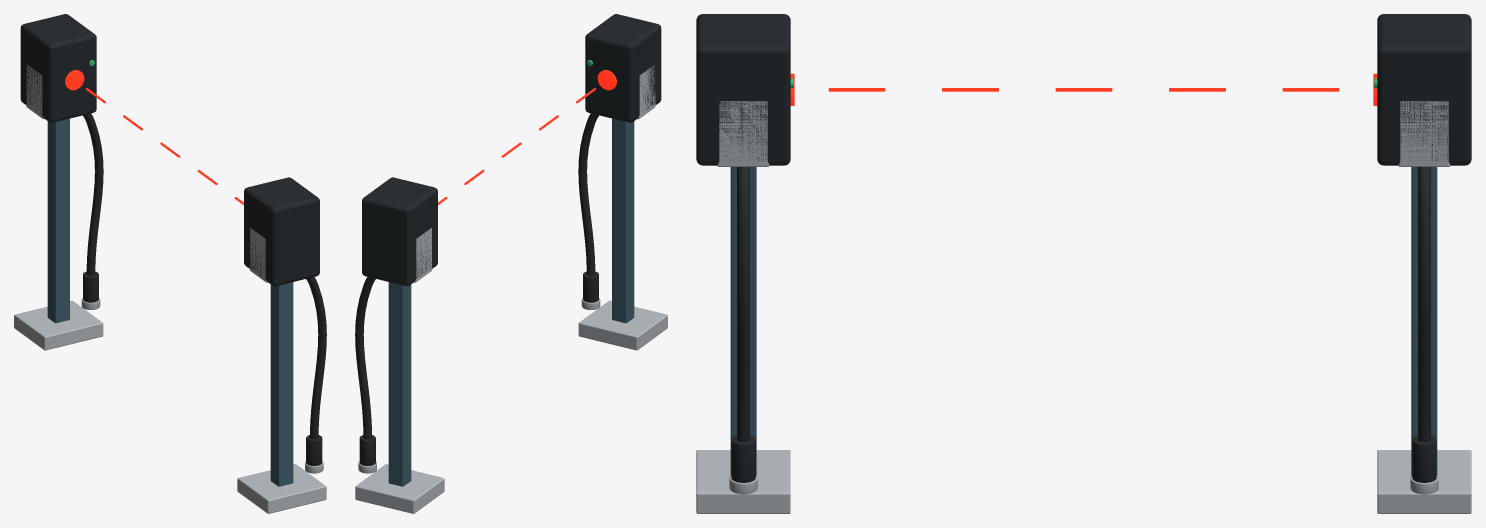
The model's file is package_class_result_display.glb.
The picture shows the model from 3 angles, left to right: view 1: azimuth 30°, elevation 25°; view 2: azimuth 150°, elevation 25°; view 3: azimuth 270°, elevation 25°; orthographic projection. The views are drawn at different scales.
Parts seen in each view (by area): view 1: TX_housing, RX_housing, TX_post, RX_post, TX_foot, RX_foot, RX_cable, TX_cable, RX_adjust_bracket, TX_adjust_bracket, TX_m12_connector, RX_m12_connector; view 2: RX_housing, TX_housing, RX_post, TX_post, RX_foot, TX_foot, TX_cable, RX_cable, RX_adjust_bracket, TX_adjust_bracket, RX_m12_connector, TX_m12_connector; view 3: RX_housing, TX_housing, RX_foot, TX_foot, RX_post, TX_post, RX_cable, TX_cable, RX_adjust_bracket, TX_adjust_bracket, RX_m12_connector, TX_m12_connector.
Part boxes in pixels (left/top/right/bottom): TX_housing: left=244, top=177, right=319, bottom=286; RX_housing: left=20, top=14, right=96, bottom=122; TX_post: left=270, top=282, right=293, bottom=486; RX_post: left=47, top=118, right=69, bottom=323; TX_foot: left=237, top=464, right=326, bottom=513; RX_foot: left=14, top=300, right=103, bottom=350; RX_cable: left=83, top=113, right=103, bottom=275; TX_cable: left=306, top=277, right=326, bottom=439; RX_adjust_bracket: left=26, top=64, right=44, bottom=119; TX_adjust_bracket: left=249, top=228, right=267, bottom=282; TX_m12_connector: left=306, top=435, right=322, bottom=465; RX_m12_connector: left=83, top=271, right=98, bottom=302; RX_housing: left=362, top=177, right=437, bottom=286; TX_housing: left=585, top=14, right=661, bottom=122; RX_post: left=388, top=282, right=411, bottom=486; TX_post: left=612, top=118, right=634, bottom=323; RX_foot: left=355, top=464, right=444, bottom=513; TX_foot: left=578, top=300, right=667, bottom=350; TX_cable: left=578, top=113, right=598, bottom=275; RX_cable: left=355, top=277, right=375, bottom=439; RX_adjust_bracket: left=414, top=228, right=432, bottom=282; TX_adjust_bracket: left=637, top=65, right=655, bottom=119; RX_m12_connector: left=359, top=435, right=375, bottom=465; TX_m12_connector: left=583, top=271, right=598, bottom=302; RX_housing: left=1377, top=14, right=1471, bottom=165; TX_housing: left=696, top=14, right=790, bottom=165; RX_foot: left=1377, top=450, right=1471, bottom=513; TX_foot: left=696, top=450, right=790, bottom=513; RX_post: left=1411, top=167, right=1437, bottom=475; TX_post: left=730, top=167, right=756, bottom=475; RX_cable: left=1418, top=167, right=1430, bottom=442; TX_cable: left=737, top=167, right=749, bottom=442; RX_adjust_bracket: left=1398, top=101, right=1450, bottom=166; TX_adjust_bracket: left=717, top=101, right=769, bottom=166; RX_m12_connector: left=1412, top=435, right=1436, bottom=482; TX_m12_connector: left=731, top=435, right=755, bottom=482.
Bounding box in the file's own units: 0.275 × 1.08 × 1.64.
